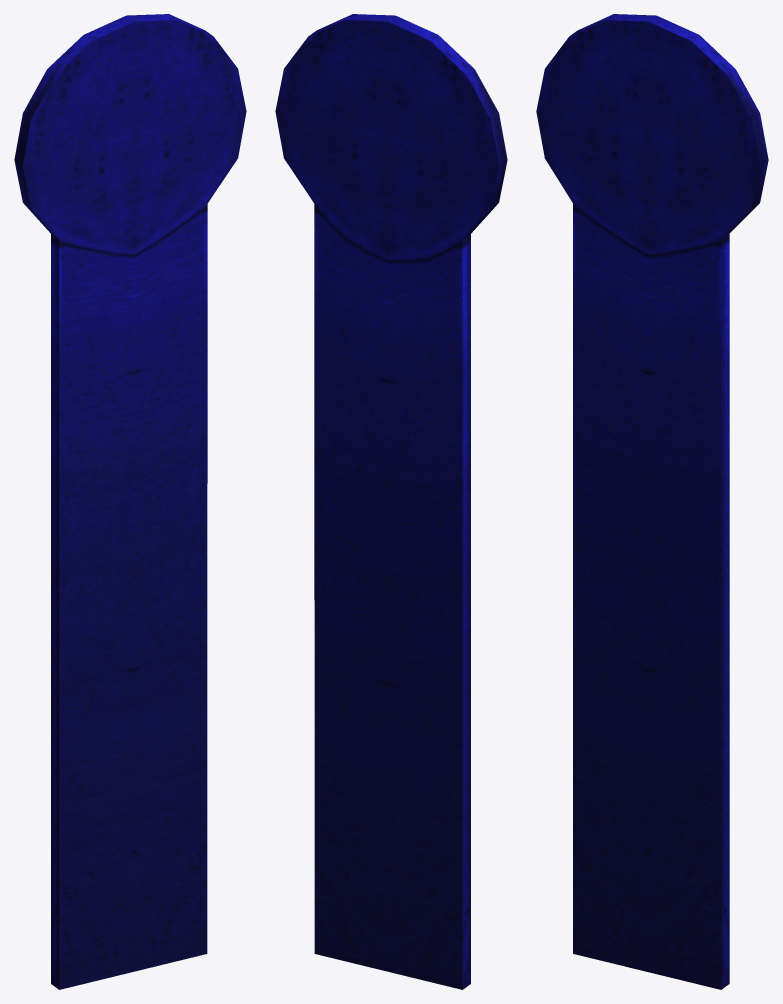
3 views of the same model, side by side, from view 1: azimuth 30°, elevation 25°; view 2: azimuth 150°, elevation 25°; view 3: azimuth 330°, elevation 25° (orthographic).
Visible parts, largest first — view 1: Object48; view 2: Object48; view 3: Object48.
Boxes of the visible parts, x1,y1,x2,y2 form: Object48: (14, 14, 246, 989); Object48: (275, 14, 507, 989); Object48: (536, 14, 768, 989).
Size of the model in its own units: 3.87 by 0.2484 by 15.7.
